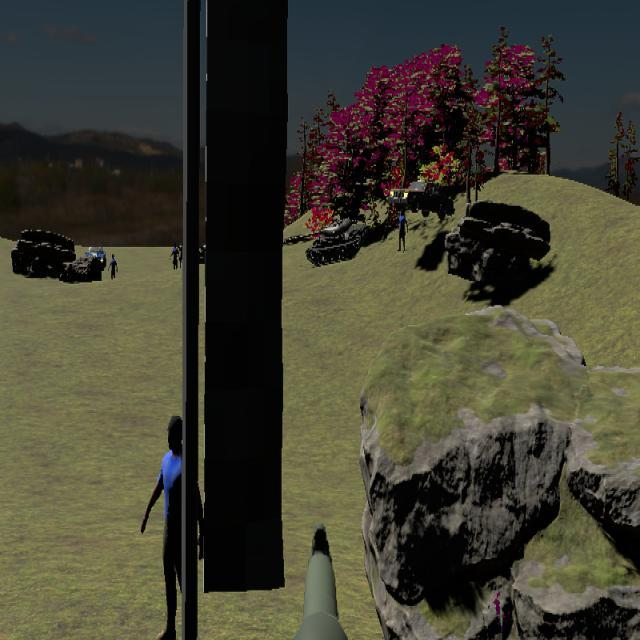Human: (141, 413, 198, 639)
Tank: (284, 216, 367, 266)
car: (388, 179, 454, 219)
